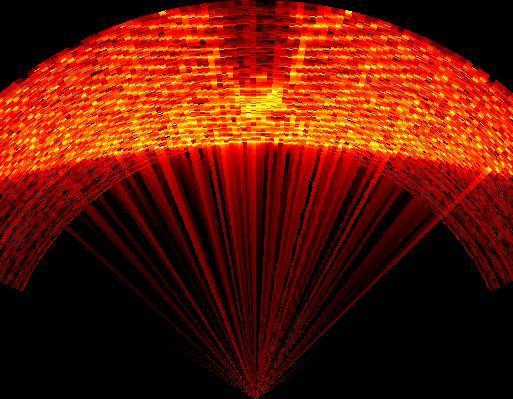box_crate: (213, 1, 285, 100)
